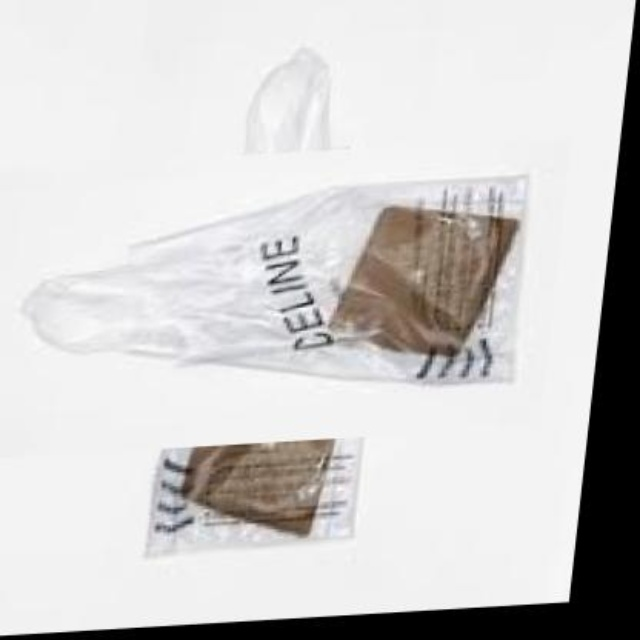trash: (25, 177, 526, 382)
